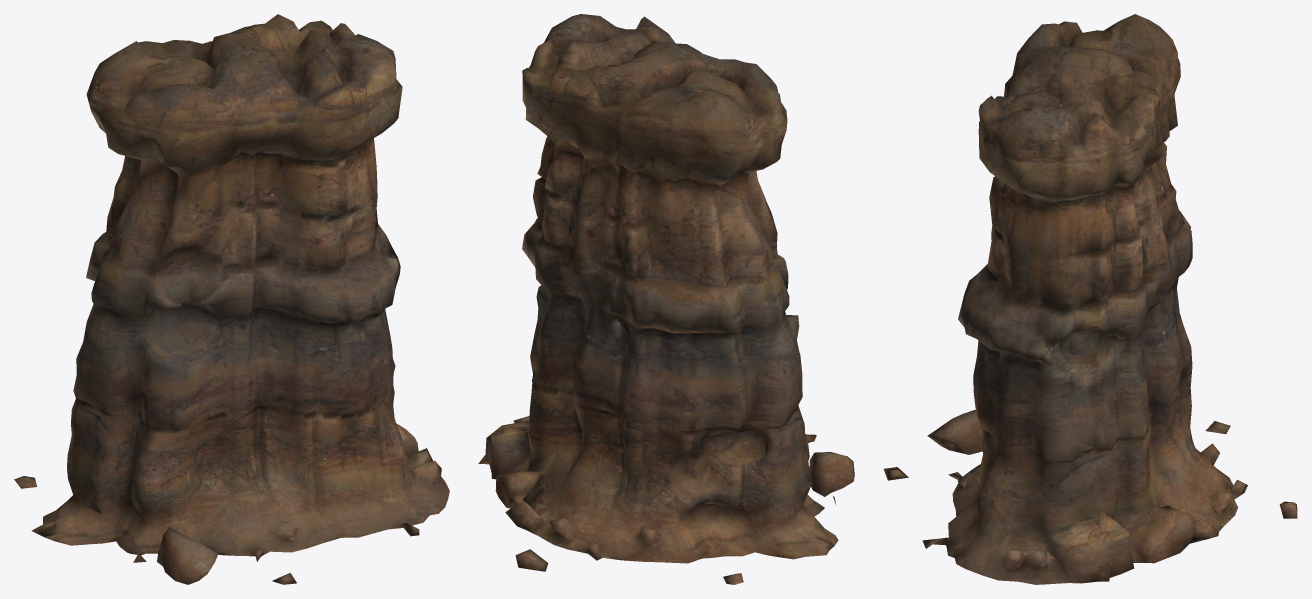
Rendered from b15_rock_spire_e.glb.
3 renders of one model, left to right at view 1: azimuth 30°, elevation 25°; view 2: azimuth 150°, elevation 25°; view 3: azimuth 270°, elevation 25°, orthographic. The views are drawn at different scales.
Parts seen in each view (by area): view 1: b15_rock_spire_e; view 2: b15_rock_spire_e; view 3: b15_rock_spire_e.
Part boxes in pixels (bbox=[...]): b15_rock_spire_e: bbox=[14, 14, 449, 584]; b15_rock_spire_e: bbox=[478, 14, 854, 584]; b15_rock_spire_e: bbox=[883, 14, 1297, 584].
Bounding box in the file's own units: 0.9985 × 1.2 × 0.9974.
1 material, 1 textured.
